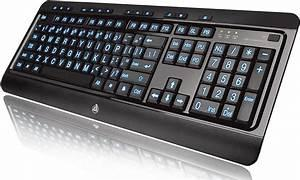keyboard: (0, 0, 299, 165)
